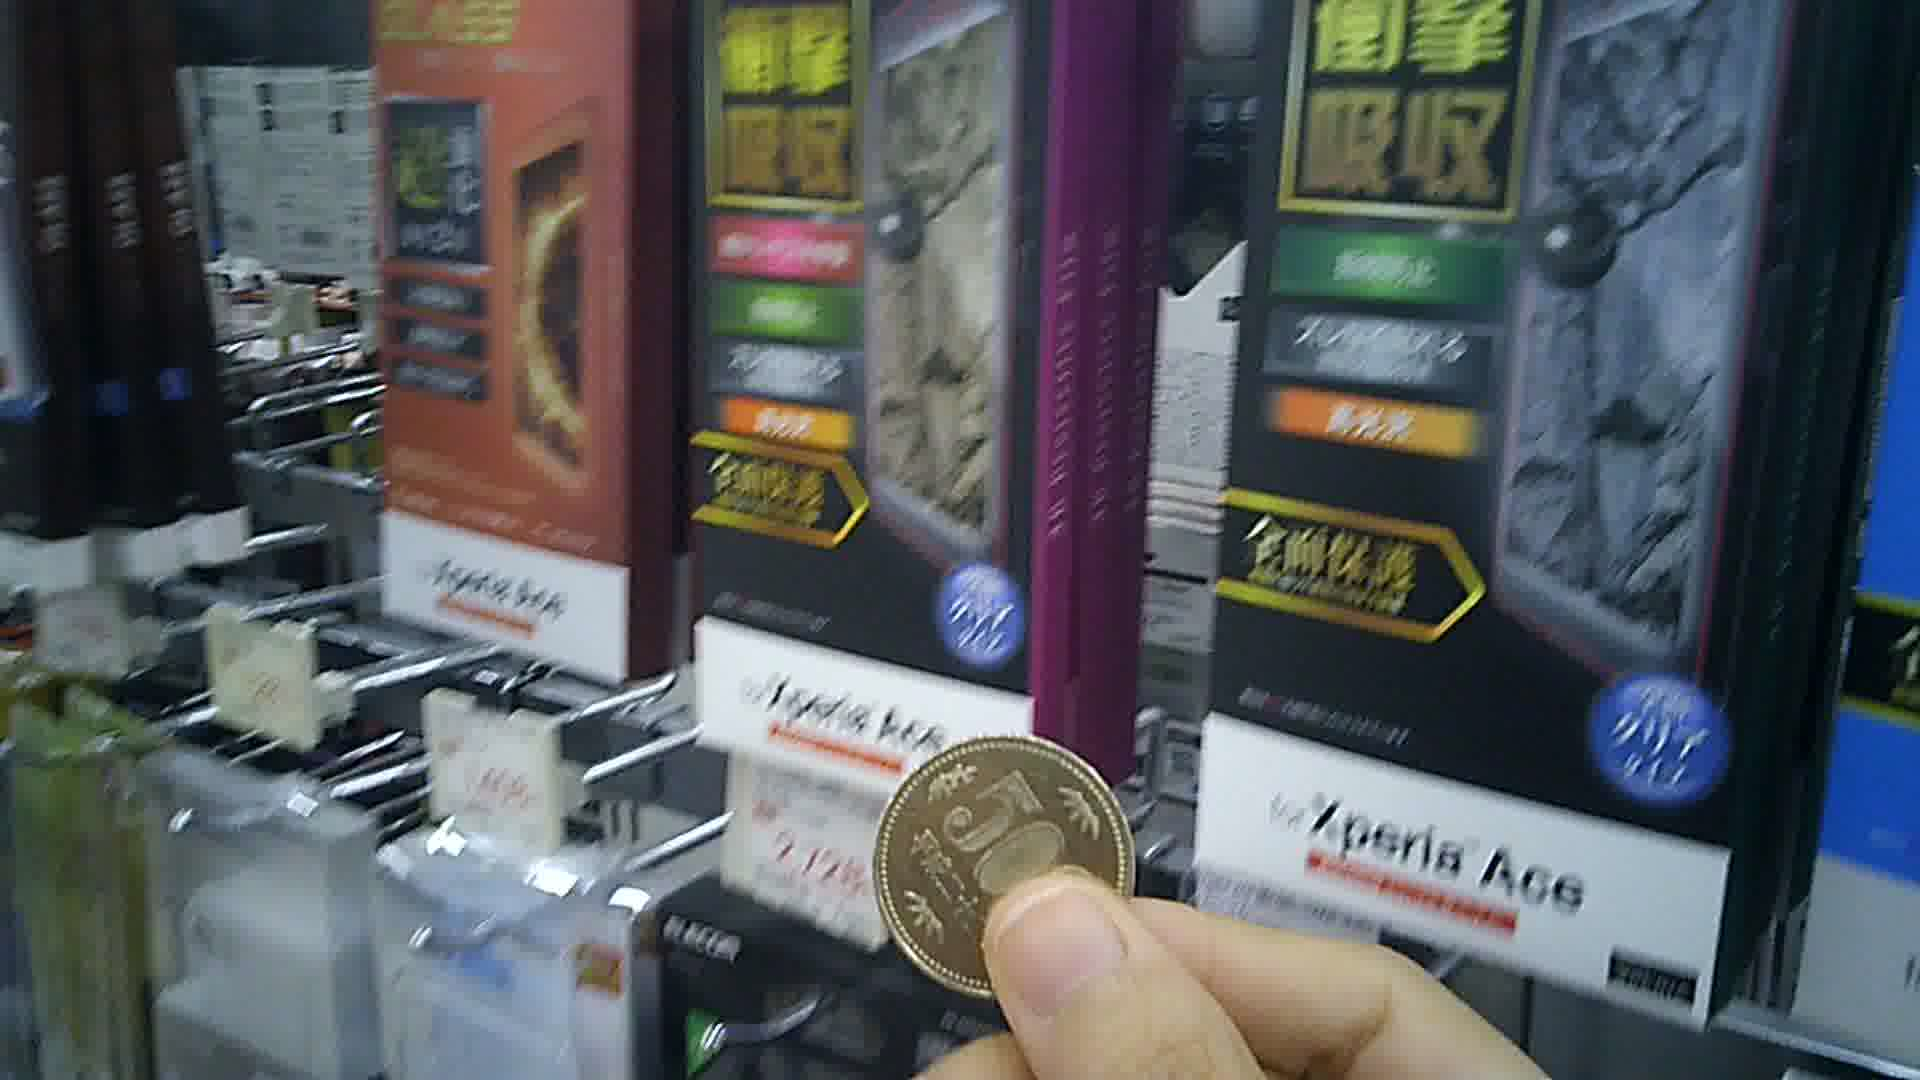500 Yen: (872, 737, 1131, 1007)
